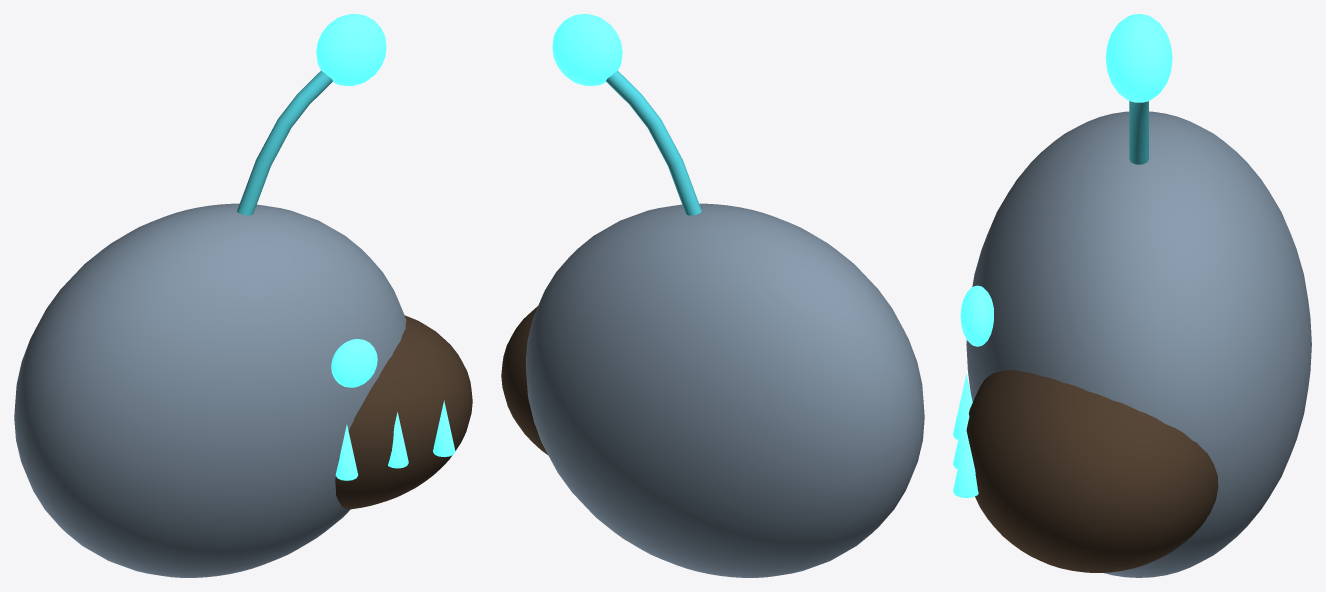
Rendered from aquatic_v3.glb.
3 views of the same model, side by side, from view 1: azimuth 30°, elevation 25°; view 2: azimuth 150°, elevation 25°; view 3: azimuth 270°, elevation 25° (orthographic). The views are drawn at different scales.
Parts seen in each view (by area): view 1: ANGLER_BODY_PRIMARY, ANGLER_JAW_SECONDARY, LURE_LIGHT_EMISSIVE, ANGLER_LURE_ACCENT, EYE_EMISSIVE, ANGLER_TOOTH_EMISSIVE, ANGLER_TOOTH_EMISSIVE.002, ANGLER_TOOTH_EMISSIVE.001; view 2: ANGLER_BODY_PRIMARY, LURE_LIGHT_EMISSIVE, ANGLER_LURE_ACCENT, ANGLER_JAW_SECONDARY; view 3: ANGLER_BODY_PRIMARY, ANGLER_JAW_SECONDARY, LURE_LIGHT_EMISSIVE, EYE_EMISSIVE, ANGLER_LURE_ACCENT, ANGLER_TOOTH_EMISSIVE.002, ANGLER_TOOTH_EMISSIVE.
Boxes of the visible parts, x1,y1,x2,y2 form: ANGLER_BODY_PRIMARY: (14, 203, 406, 577); ANGLER_JAW_SECONDARY: (335, 315, 472, 509); LURE_LIGHT_EMISSIVE: (316, 14, 386, 85); ANGLER_LURE_ACCENT: (237, 70, 332, 215); EYE_EMISSIVE: (331, 339, 377, 387); ANGLER_TOOTH_EMISSIVE: (335, 424, 358, 480); ANGLER_TOOTH_EMISSIVE.002: (433, 400, 455, 456); ANGLER_TOOTH_EMISSIVE.001: (388, 412, 408, 468); ANGLER_BODY_PRIMARY: (526, 203, 924, 577); LURE_LIGHT_EMISSIVE: (552, 14, 622, 85); ANGLER_LURE_ACCENT: (606, 70, 701, 215); ANGLER_JAW_SECONDARY: (501, 306, 547, 454); ANGLER_BODY_PRIMARY: (966, 111, 1311, 577); ANGLER_JAW_SECONDARY: (966, 370, 1218, 572); LURE_LIGHT_EMISSIVE: (1105, 14, 1172, 102); EYE_EMISSIVE: (960, 285, 993, 346); ANGLER_LURE_ACCENT: (1129, 101, 1148, 164); ANGLER_TOOTH_EMISSIVE.002: (953, 430, 978, 497); ANGLER_TOOTH_EMISSIVE: (953, 374, 972, 439).
Size of the model in its own units: 1.68 by 1.99 by 1.06.
